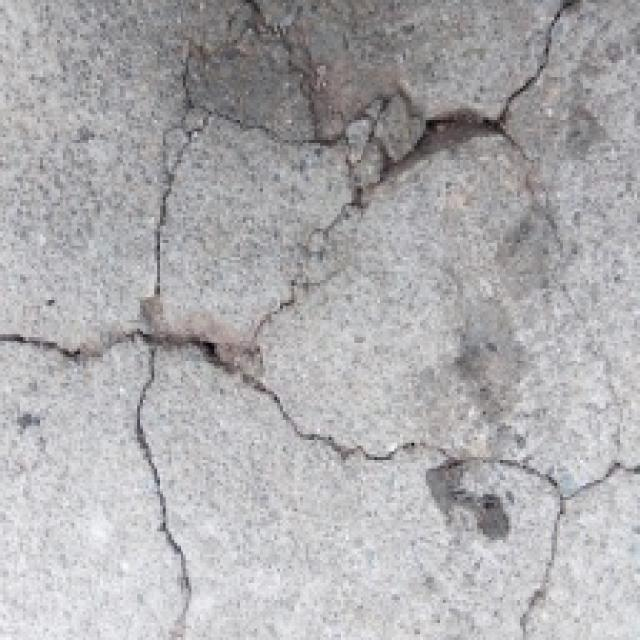SurfaceCrack: (10, 272, 640, 510), (42, 100, 230, 640), (70, 20, 578, 186)
